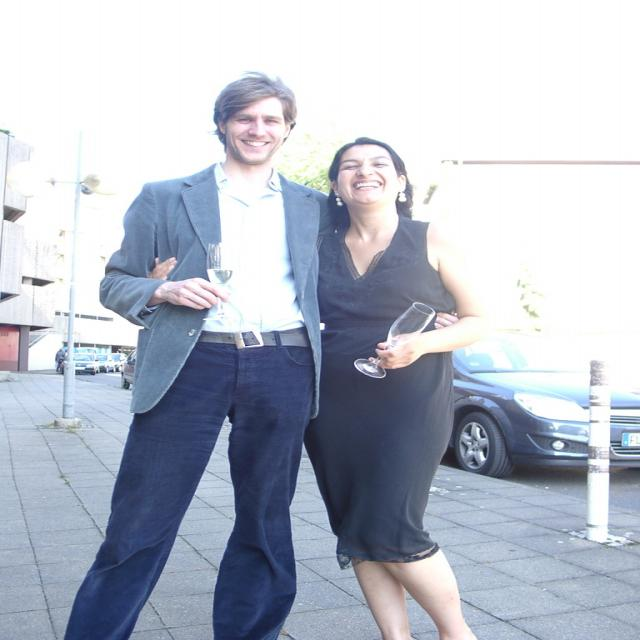other: (448, 330, 639, 479), (60, 351, 99, 374), (121, 351, 137, 391), (96, 352, 116, 372), (110, 354, 127, 372)
